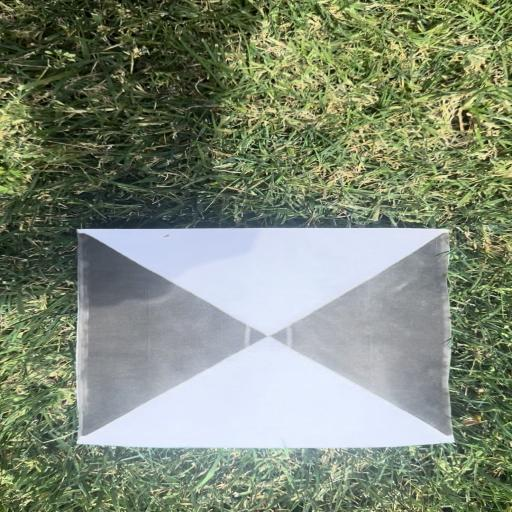target: (81, 230, 454, 443)
